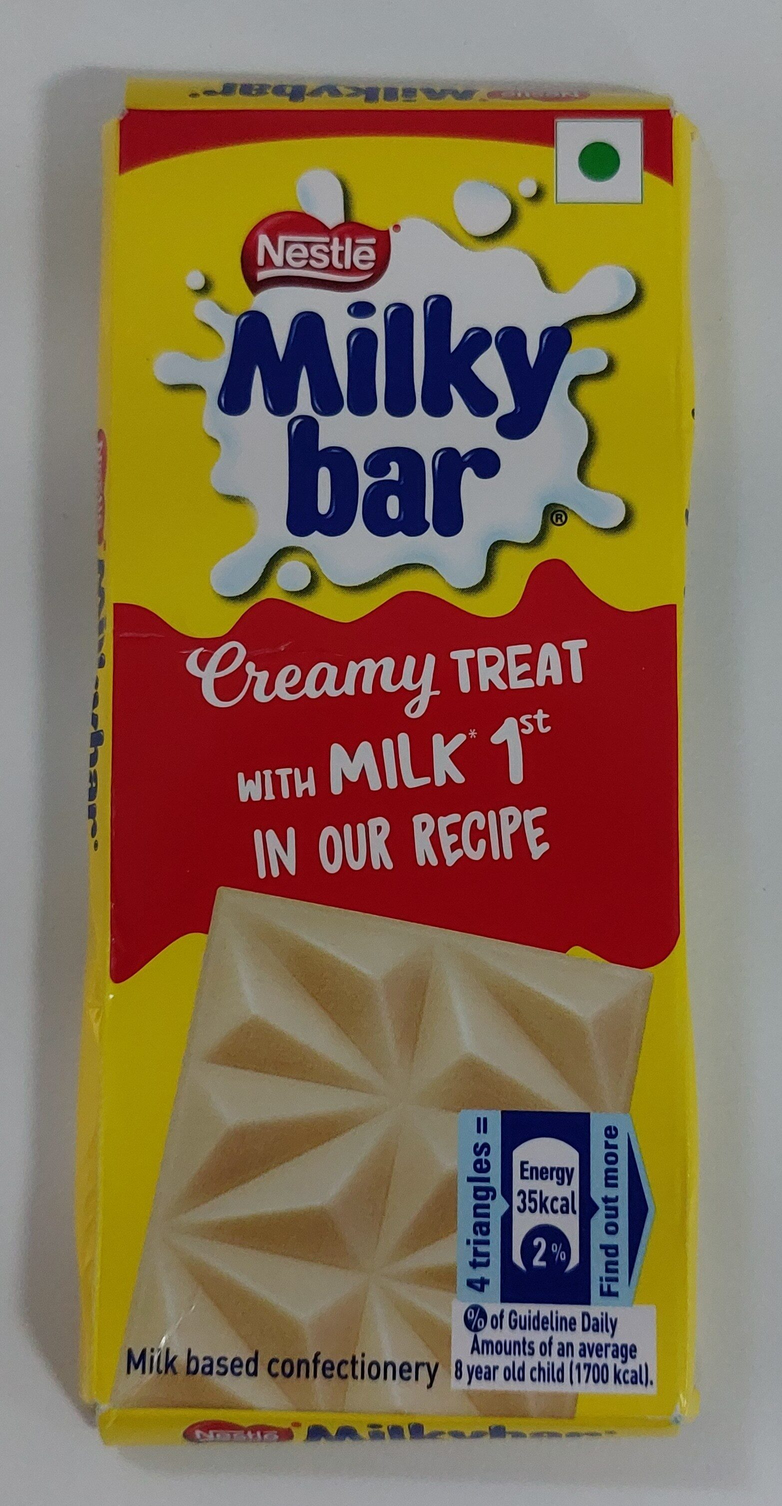Milky bar: (70, 136, 712, 1370)
